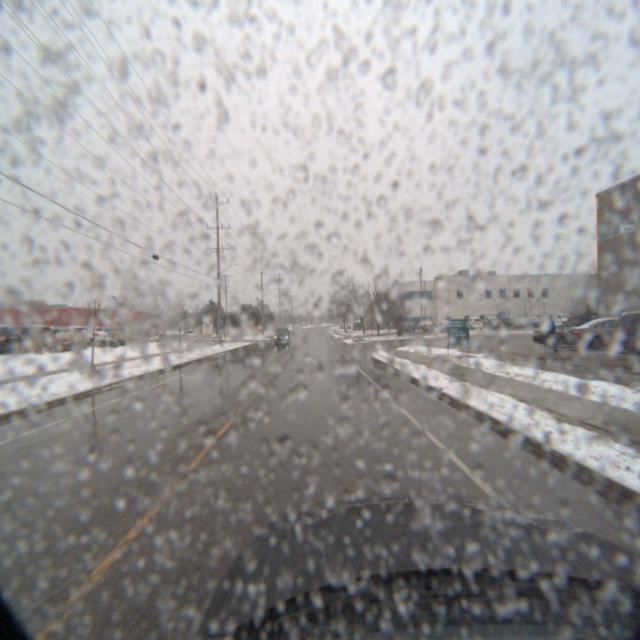Car: (532, 322, 610, 349)
Pedestrian: (542, 313, 564, 353)
